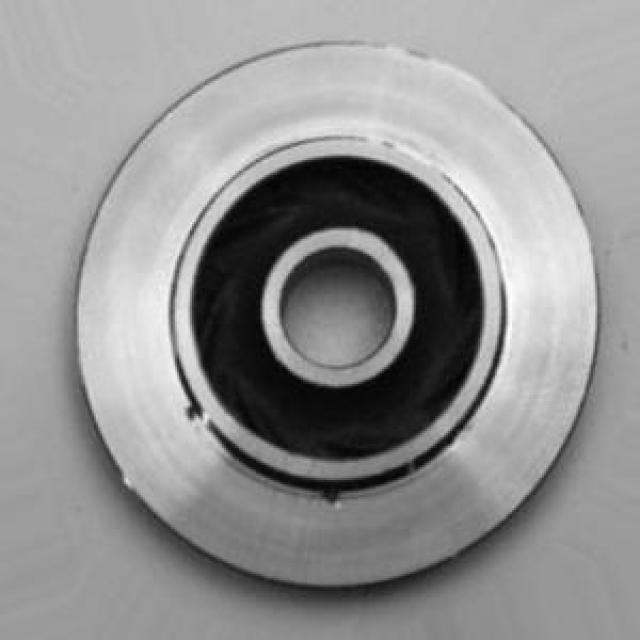Defect: (178, 402, 213, 427)
